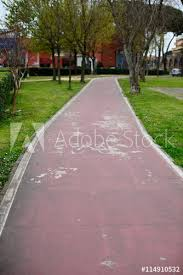strada: (0, 77, 183, 265)
